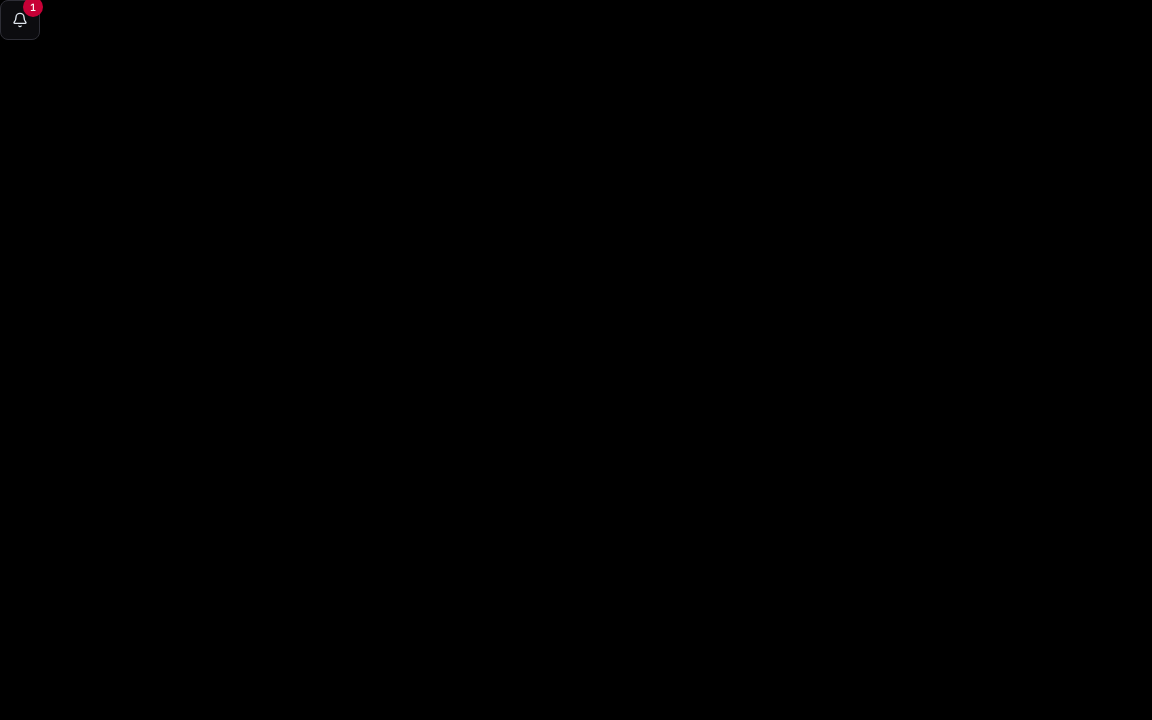
Test: Core Decision-Support UI Components › opens NotificationCenter popover, marks single/all read, and clears items
Later steps or results of the test are not shown.
Click the button named "Notifications (1 unread)".
click(20, 20)  # box [0,0,40,40]
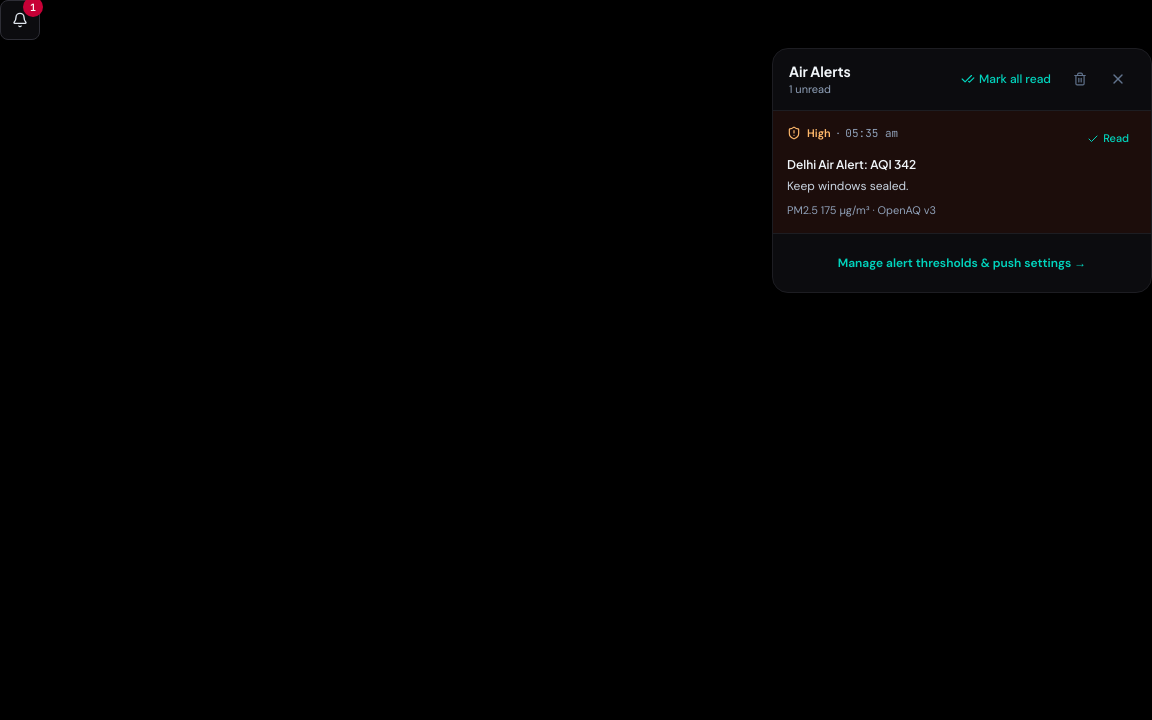
Expected: the heading "Delhi Air Alert: AQI 342" is shown, [787,156,916,172]
